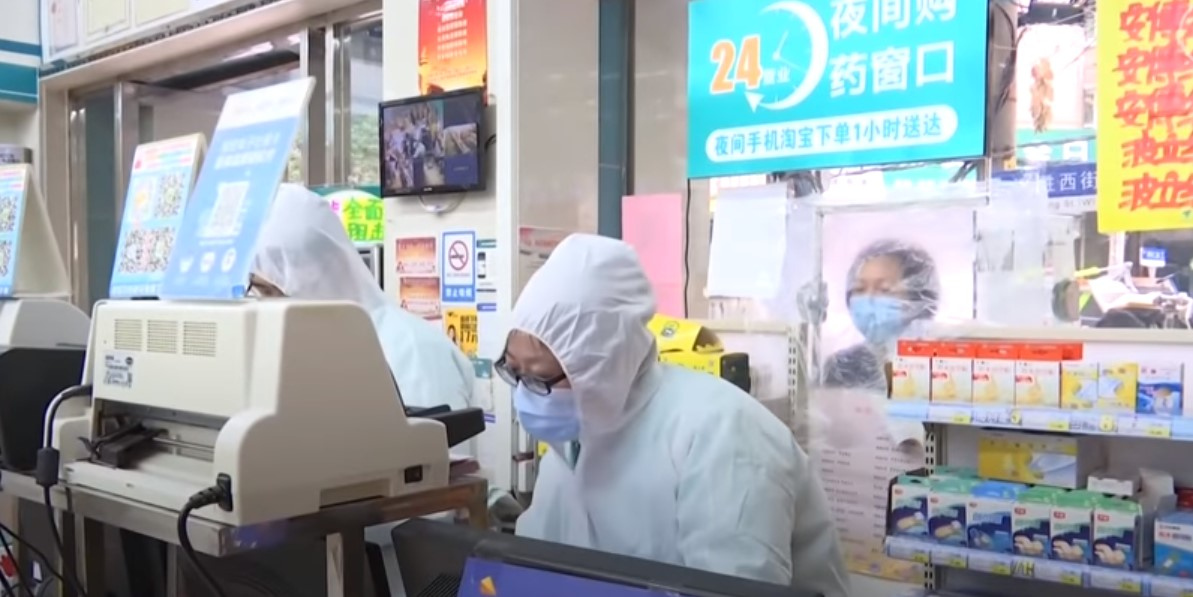face_with_mask: (495, 224, 666, 464), (844, 238, 936, 346)
